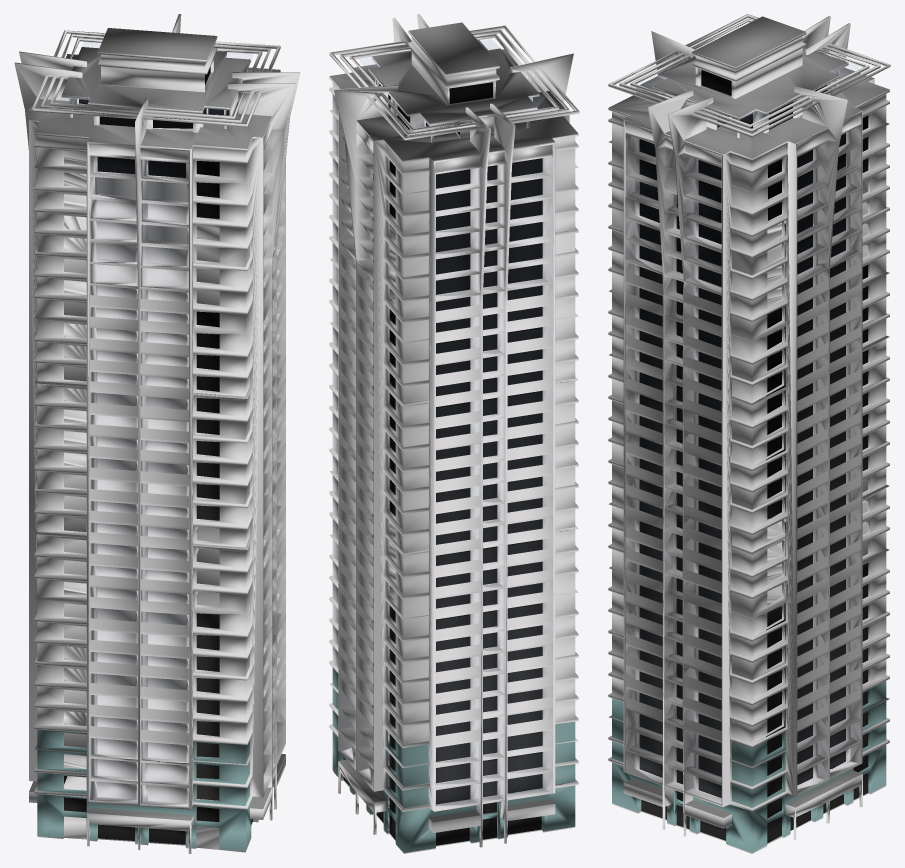
Rendered from building-3.glb.
3 views of the same model, side by side, from view 1: azimuth 30°, elevation 25°; view 2: azimuth 150°, elevation 25°; view 3: azimuth 270°, elevation 25° (orthographic).
Parts seen in each view (by area): view 1: part_00, part_06, part_02, part_05, part_03, part_04, part_07; view 2: part_00, part_05, part_06, part_02, part_03, part_04, part_01; view 3: part_00, part_05, part_06, part_02, part_03, part_04.
Part boxes in pixels (x1,y1,x2,y2): part_00: [14, 14, 300, 853]; part_06: [37, 58, 249, 741]; part_02: [29, 28, 285, 820]; part_05: [47, 66, 252, 823]; part_03: [37, 729, 258, 851]; part_04: [88, 36, 242, 803]; part_07: [64, 797, 219, 844]; part_00: [329, 14, 579, 853]; part_05: [343, 82, 542, 845]; part_06: [332, 49, 575, 744]; part_02: [330, 22, 577, 822]; part_03: [332, 667, 575, 852]; part_04: [368, 31, 539, 327]; part_01: [360, 39, 548, 126]; part_00: [608, 14, 890, 853]; part_05: [639, 70, 868, 843]; part_06: [612, 48, 886, 743]; part_02: [608, 16, 889, 818]; part_03: [612, 681, 886, 852]; part_04: [638, 32, 848, 573].
Size of the model in its own units: 165 by 478 by 162.
6 materials, 2 textured.
